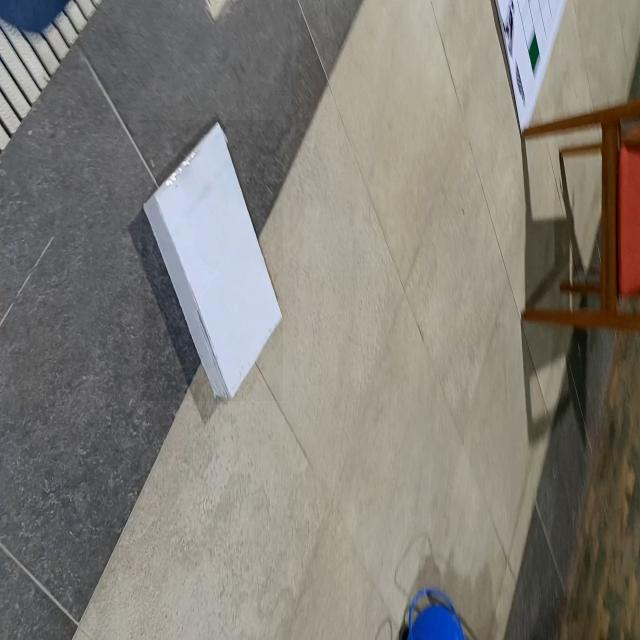Cuboid: (142, 120, 283, 401)
